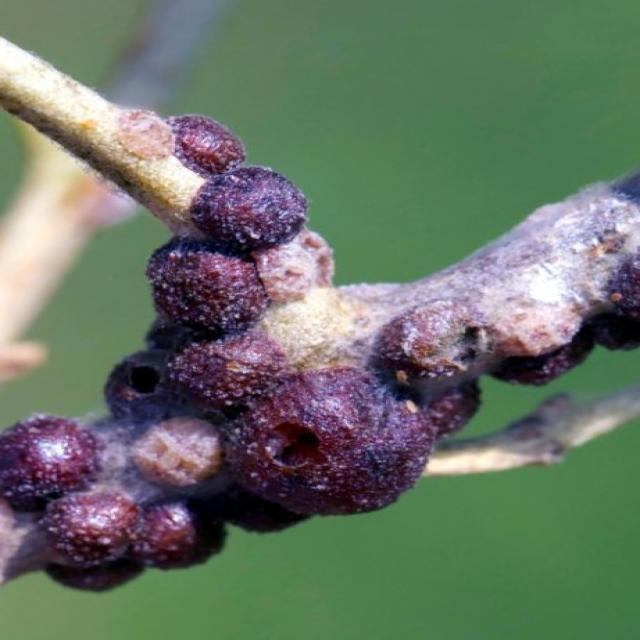BlackScale: (106, 320, 434, 531), (0, 394, 226, 586), (147, 114, 330, 330), (380, 275, 492, 438), (506, 268, 638, 385)
